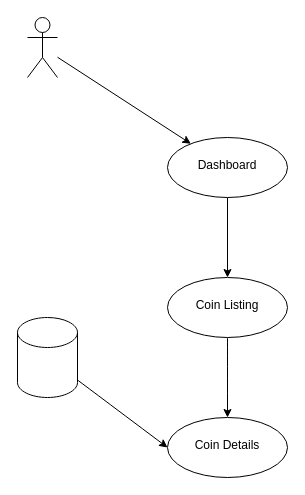
Image size: 305x495. Some labels were removed from this diagram. Here are the shapes that lost their labels. From the top down, the box of each, then its label:
(26, 16, 58, 78): User
(16, 316, 78, 398): Query
